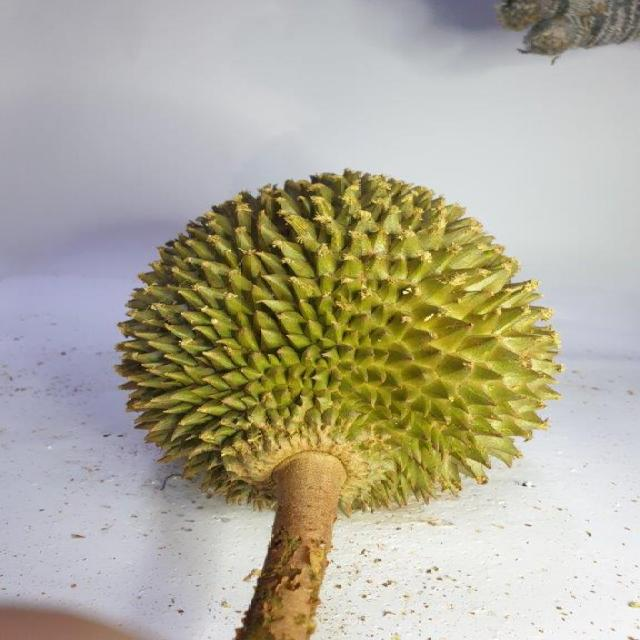immature: (105, 166, 566, 520)
